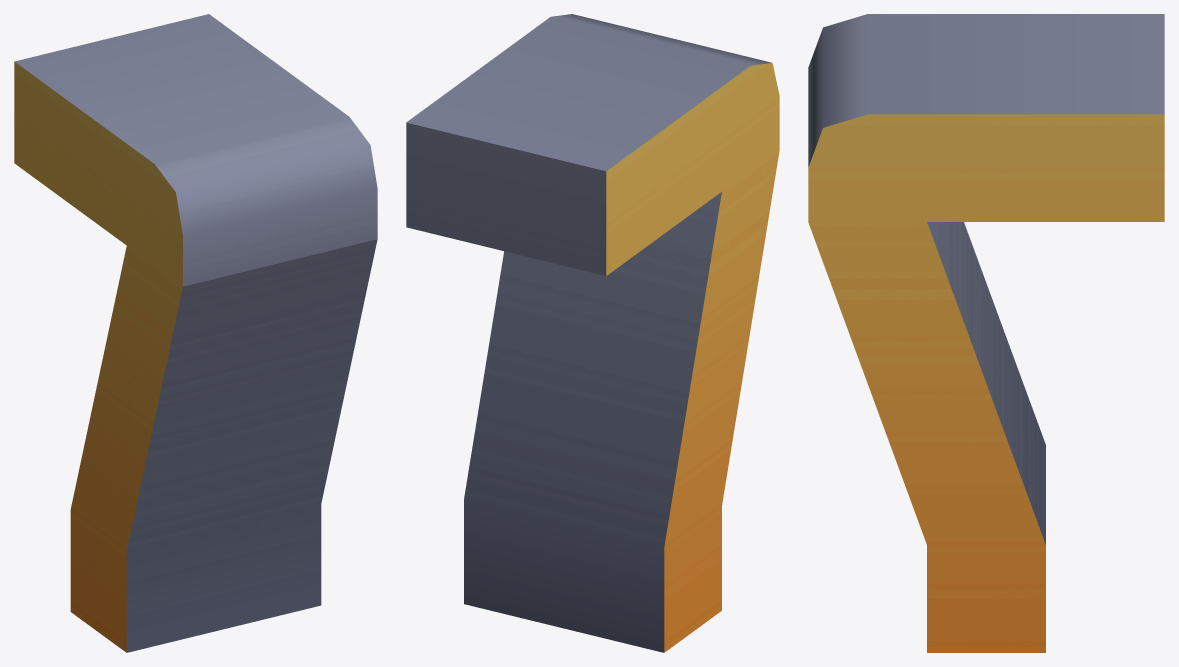
Rendered from number-7.glb.
3 renders of one model, left to right at view 1: azimuth 30°, elevation 25°; view 2: azimuth 150°, elevation 25°; view 3: azimuth 270°, elevation 25°, orthographic. The views are drawn at different scales.
Parts seen in each view (by area): view 1: number-7; view 2: number-7; view 3: number-7.
Boxes of the visible parts, x1,y1,x2,y2 form: number-7: (14,14,377,652); number-7: (406,14,779,652); number-7: (808,14,1164,652).
Bounding box in the file's own units: 0.2 × 0.5 × 0.3.
1 material, 1 textured.
